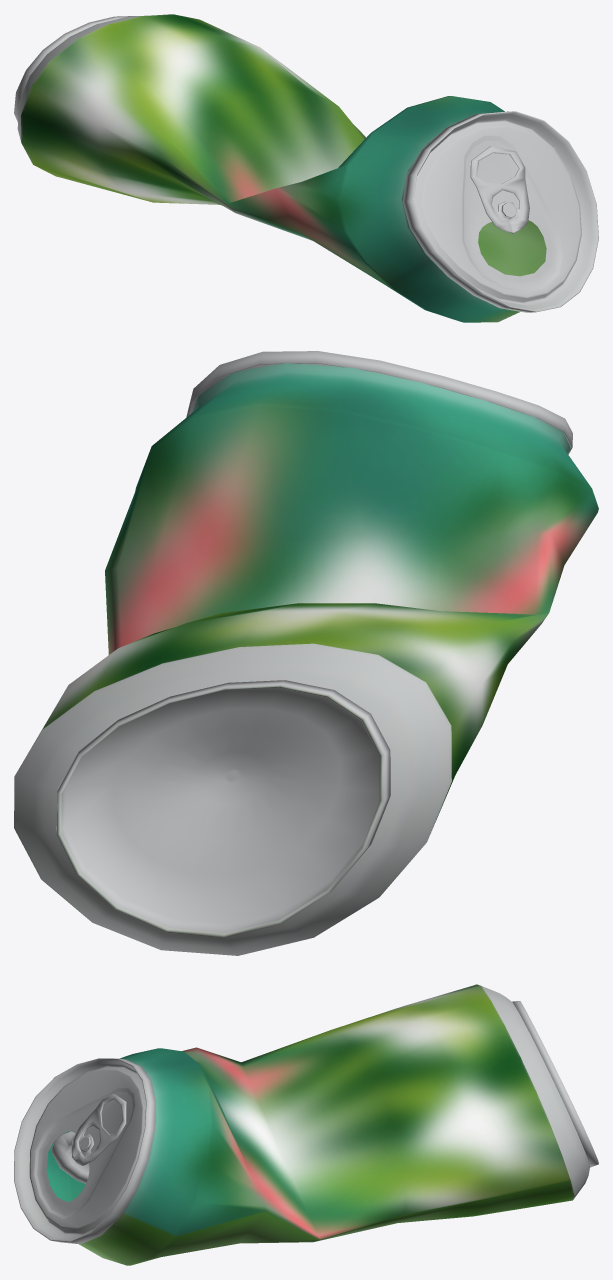
Rendered from soda-crushed.glb.
3 renders of one model, top to bottom at view 1: azimuth 30°, elevation 25°; view 2: azimuth 150°, elevation 25°; view 3: azimuth 270°, elevation 25°, orthographic. The views are drawn at different scales.
Parts seen in each view (by area): view 1: SodaCrushed; view 2: SodaCrushed; view 3: SodaCrushed.
Boxes of the visible parts, x1,y1,x2,y2 form: SodaCrushed: [14, 14, 598, 322]; SodaCrushed: [14, 351, 598, 955]; SodaCrushed: [14, 984, 598, 1265].
Bounding box in the file's own units: 0.0926 × 0.0444 × 0.1383.
1 material, 1 textured.
